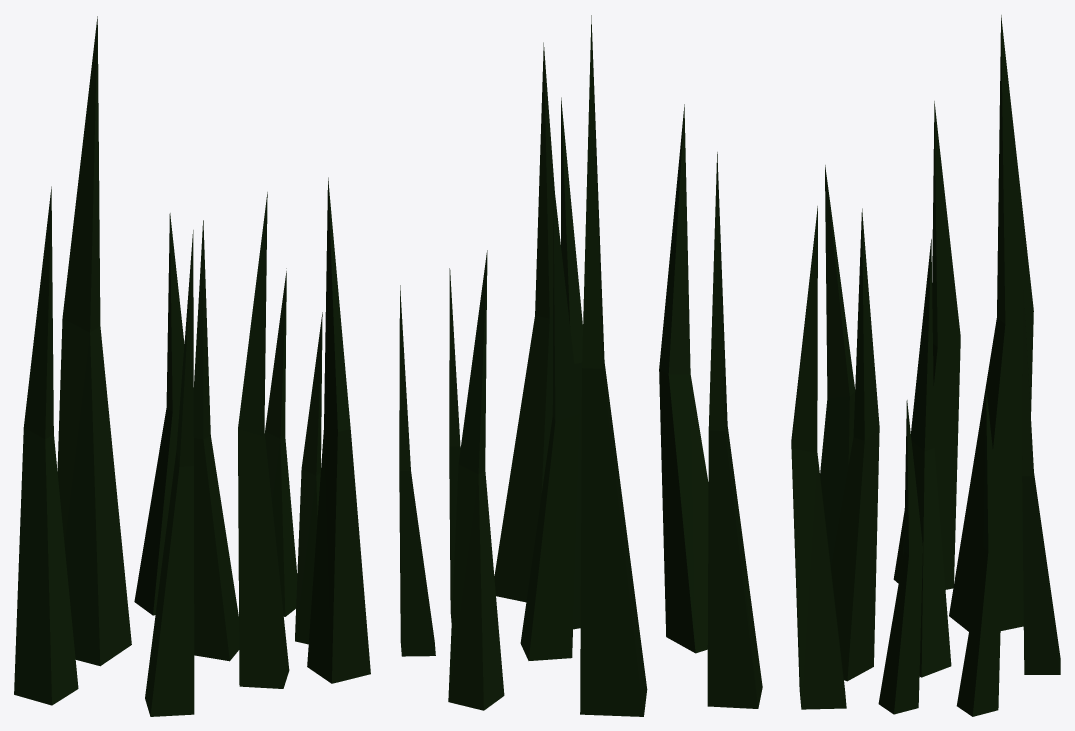
Rendered from Grass.obj.
3 views of the same model, side by side, from view 1: azimuth 30°, elevation 25°; view 2: azimuth 150°, elevation 25°; view 3: azimuth 270°, elevation 25° (orthographic). The views are drawn at different scales.
Parts seen in each view (by area): view 1: Cube.009_Cube.015; view 2: Cube.009_Cube.015; view 3: Cube.009_Cube.015.
Part boxes in pixels (<box>): Cube.009_Cube.015: <box>14,16,370,716</box>; Cube.009_Cube.015: <box>399,15,762,716</box>; Cube.009_Cube.015: <box>791,15,1060,716</box>.
Bounding box in the file's own units: 0.378 × 0.7423 × 0.2953.
